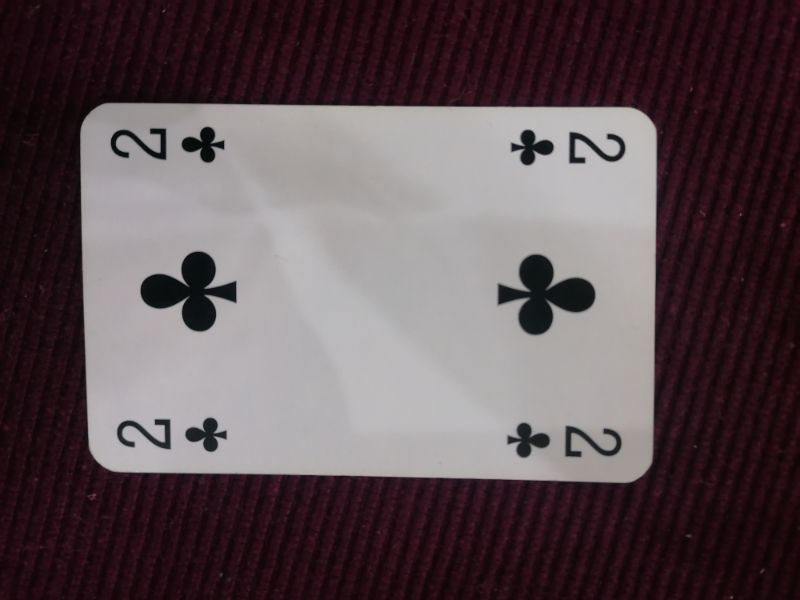2c: (109, 122, 232, 169), (507, 124, 628, 171), (504, 418, 626, 463), (114, 413, 231, 458)
